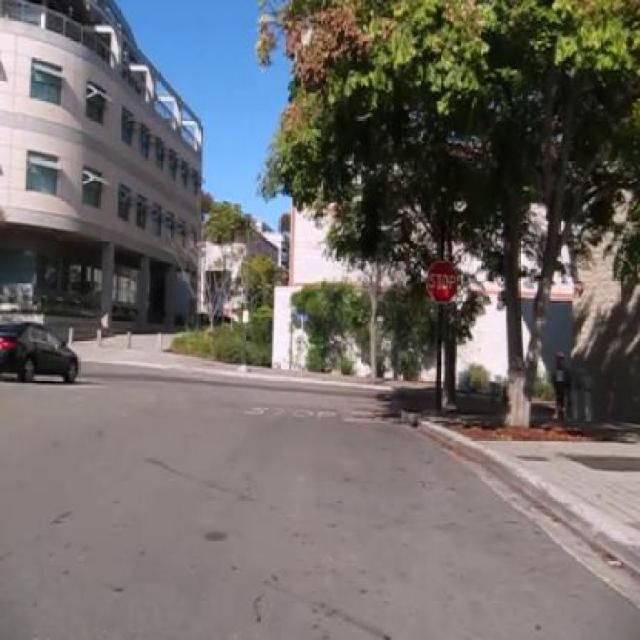stop: (426, 258, 459, 302)
